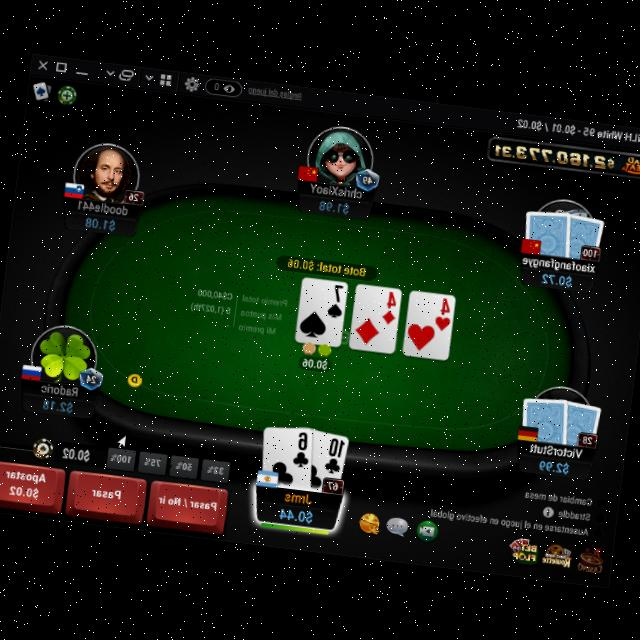4d: (379, 290, 399, 326)
4h: (434, 294, 454, 332)
6c: (290, 428, 312, 468)
7s: (324, 280, 346, 318)
Tc: (322, 436, 346, 475)
bet_text: (298, 352, 329, 369)
card_back: (519, 202, 576, 262), (516, 390, 572, 446), (556, 208, 607, 262), (556, 396, 604, 449)
dealer: (124, 368, 146, 388)
hero_active: (0, 454, 230, 534)
pot_text: (284, 255, 366, 278)
stack_text: (277, 502, 316, 524), (316, 196, 352, 214), (40, 394, 76, 412), (540, 270, 574, 288), (84, 212, 118, 230), (538, 456, 570, 474)
